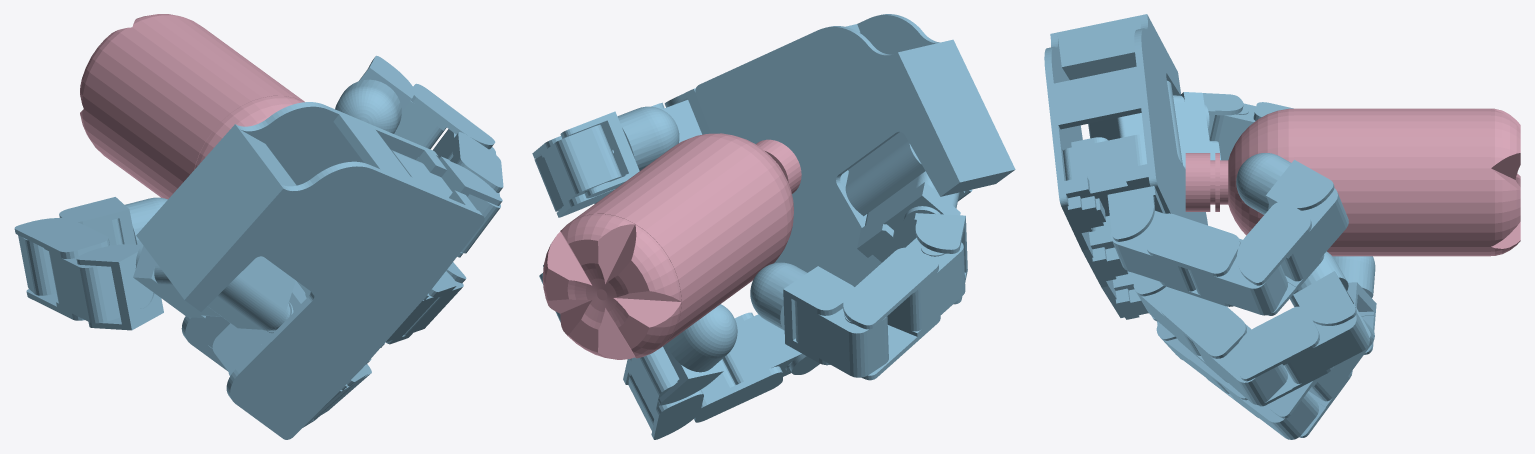
3 views of the same model, side by side, from view 1: azimuth 30°, elevation 25°; view 2: azimuth 150°, elevation 25°; view 3: azimuth 270°, elevation 25° (orthographic). The views are drawn at different scales.
Parts seen in each view (by area): view 1: world; view 2: world; view 3: world.
Boxes of the visible parts, left/top/right/bottom form: world: left=14, top=14, right=503, bottom=439; world: left=532, top=14, right=1015, bottom=439; world: left=1044, top=14, right=1520, bottom=439.
Size of the model in its own units: 0.1848 by 0.1607 by 0.194.
